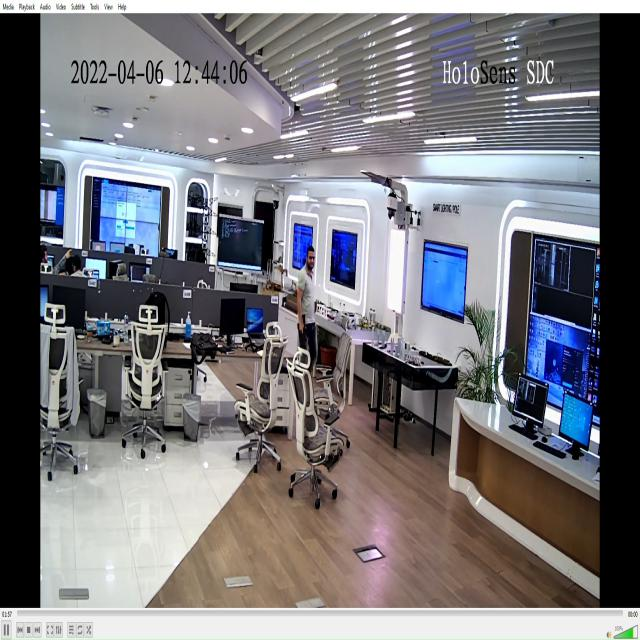long weapon: (300, 310, 312, 368)
